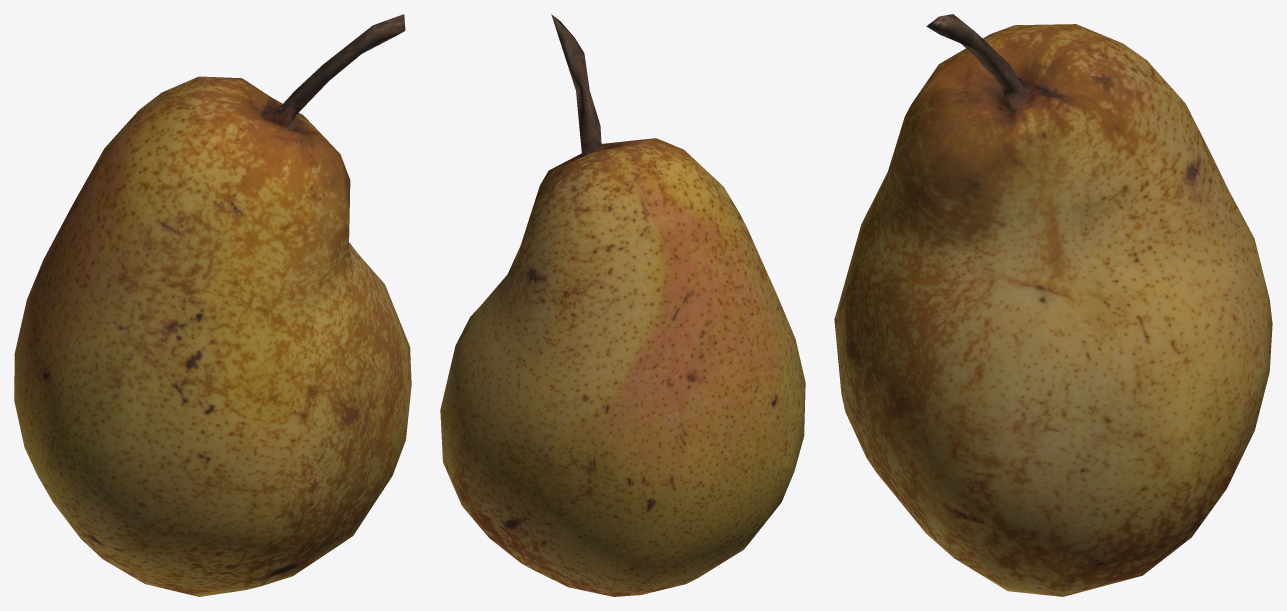
The model's file is 3DPear003_LQ-2K-JPG.obj.
3 views of the same model, side by side, from view 1: azimuth 30°, elevation 25°; view 2: azimuth 150°, elevation 25°; view 3: azimuth 270°, elevation 25° (orthographic). The views are drawn at different scales.
Visible parts, largest first — view 1: 3DPear003_LQ-2K-JPG; view 2: 3DPear003_LQ-2K-JPG; view 3: 3DPear003_LQ-2K-JPG.
Part boxes in pixels (x1,y1,x2,y2): 3DPear003_LQ-2K-JPG: (14,14,411,596); 3DPear003_LQ-2K-JPG: (440,14,805,596); 3DPear003_LQ-2K-JPG: (834,14,1272,596).
Size of the model in its own units: 0.0947 by 0.1519 by 0.0958.
Materials: 1 (1 with a texture image).
